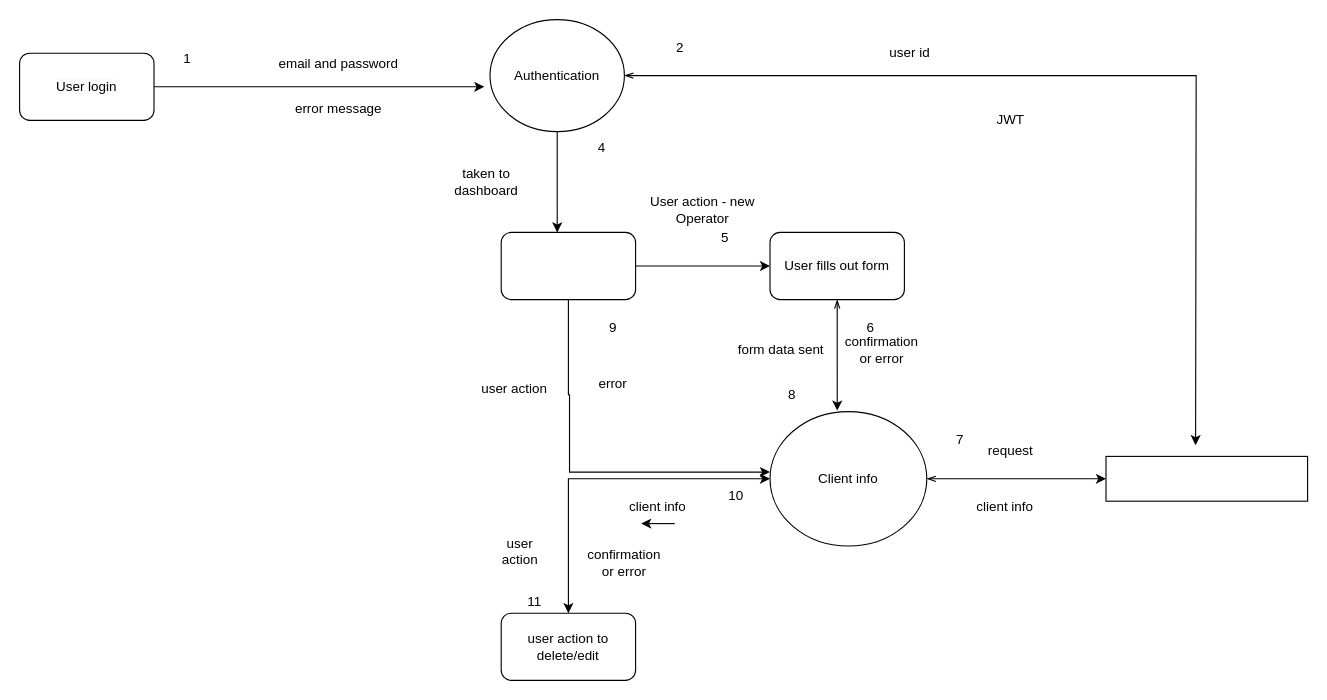
Image size: 1327x700. Some labels were removed from this diagram. The centre of each missing label's shape, as x and y in pixels:
"Database" belongs at [1206,478].
"User Selects Action new or existing Operator" belongs at [568,265].
